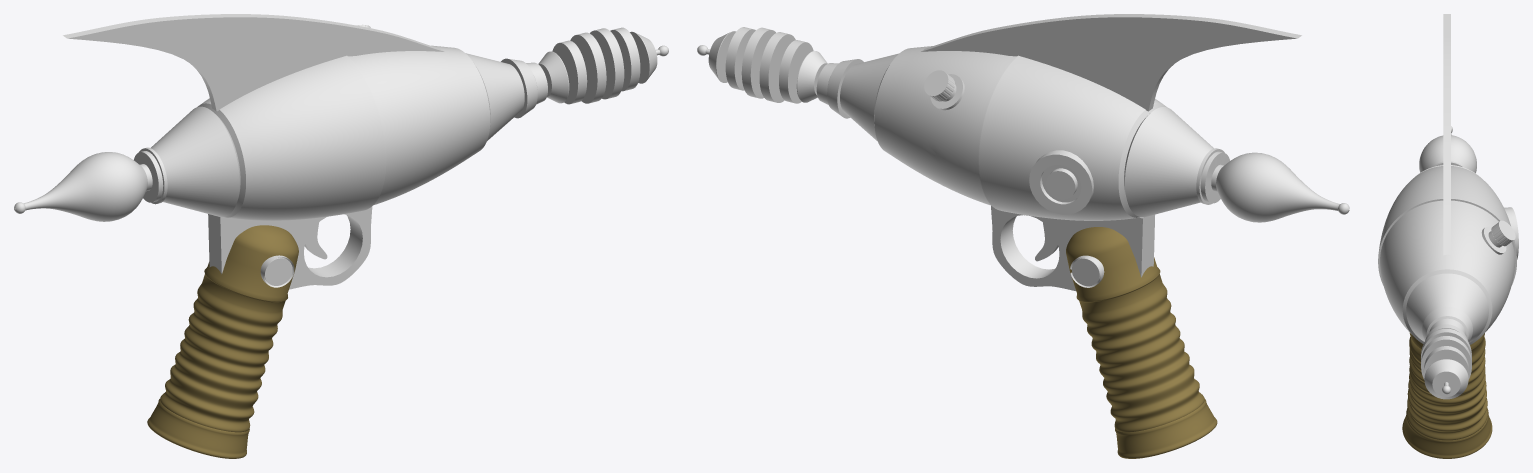
The model's file is Arma_2-2.fbx.
The picture shows the model from 3 angles, left to right: view 1: azimuth 30°, elevation 25°; view 2: azimuth 150°, elevation 25°; view 3: azimuth 270°, elevation 25°; orthographic projection. The views are drawn at different scales.
Visible parts, largest first — view 1: 4, 5, 3, 1; view 2: 4, 5, 3, 1; view 3: 4, 3, 5.
Part boxes in pixels (bbox=[...]): 4: bbox=[14, 24, 668, 221]; 5: bbox=[63, 14, 444, 289]; 3: bbox=[147, 225, 298, 458]; 1: bbox=[260, 255, 294, 287]; 4: bbox=[697, 27, 1349, 222]; 5: bbox=[921, 14, 1301, 290]; 3: bbox=[1066, 227, 1217, 458]; 1: bbox=[1046, 168, 1104, 287]; 4: bbox=[1378, 126, 1518, 399]; 3: bbox=[1402, 333, 1492, 458]; 5: bbox=[1443, 14, 1450, 255].
Bounding box in the file's own units: 614 × 404 × 138.
